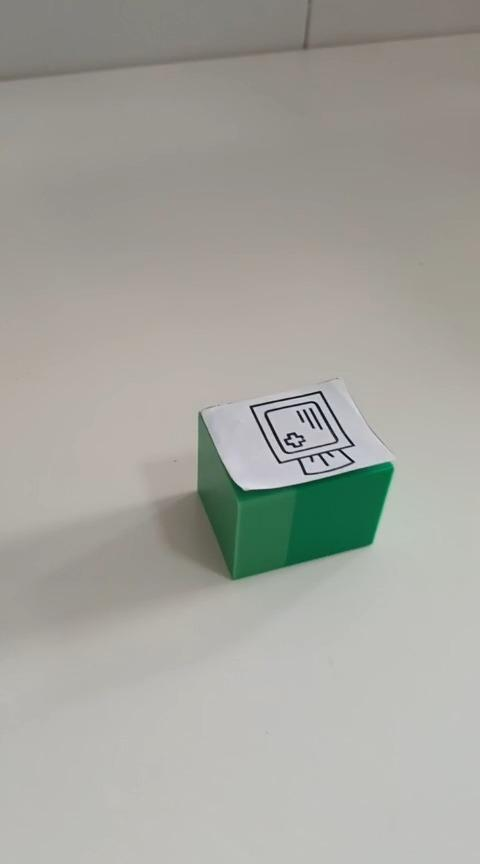Gauze: (195, 376, 396, 580)
